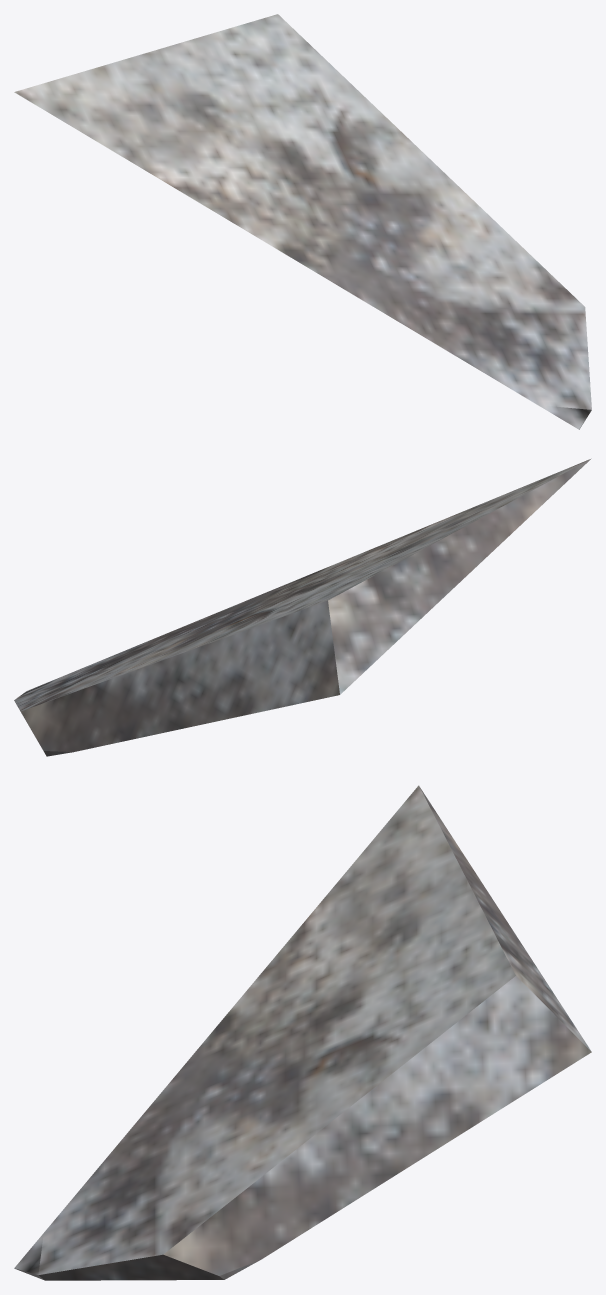
File: Asteroid_Large_001_02_007_03_024.fbx
The picture shows the model from 3 angles, top to bottom: view 1: azimuth 30°, elevation 25°; view 2: azimuth 210°, elevation 25°; view 3: azimuth 270°, elevation 25°; orthographic projection. The views are drawn at different scales.
Visible parts, largest first — view 1: Asteroid_Large_001_02_007_03_024; view 2: Asteroid_Large_001_02_007_03_024; view 3: Asteroid_Large_001_02_007_03_024.
Part boxes in pixels (bbox=[...]): Asteroid_Large_001_02_007_03_024: bbox=[14, 14, 591, 429]; Asteroid_Large_001_02_007_03_024: bbox=[14, 458, 591, 756]; Asteroid_Large_001_02_007_03_024: bbox=[14, 785, 591, 1280].
Size of the model in its own units: 3.75 by 2.26 by 4.
